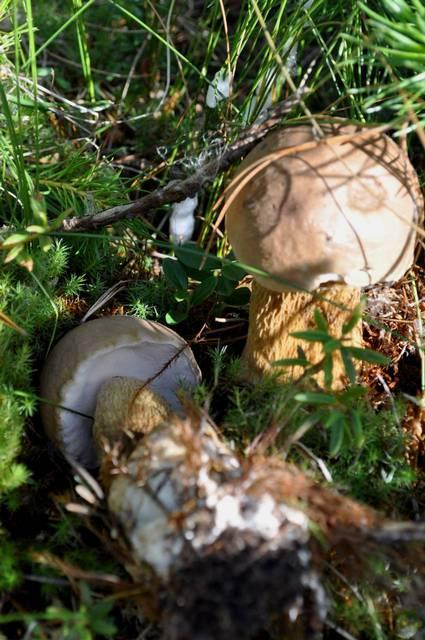Non-edible Mushroom: (38, 313, 320, 601), (217, 119, 423, 393)
